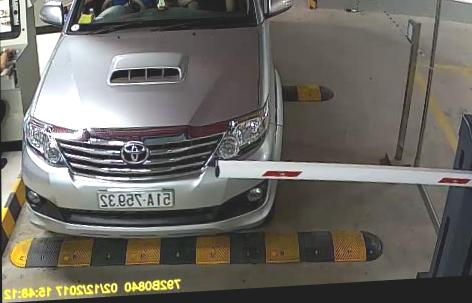License_Plate: (95, 184, 177, 210)
